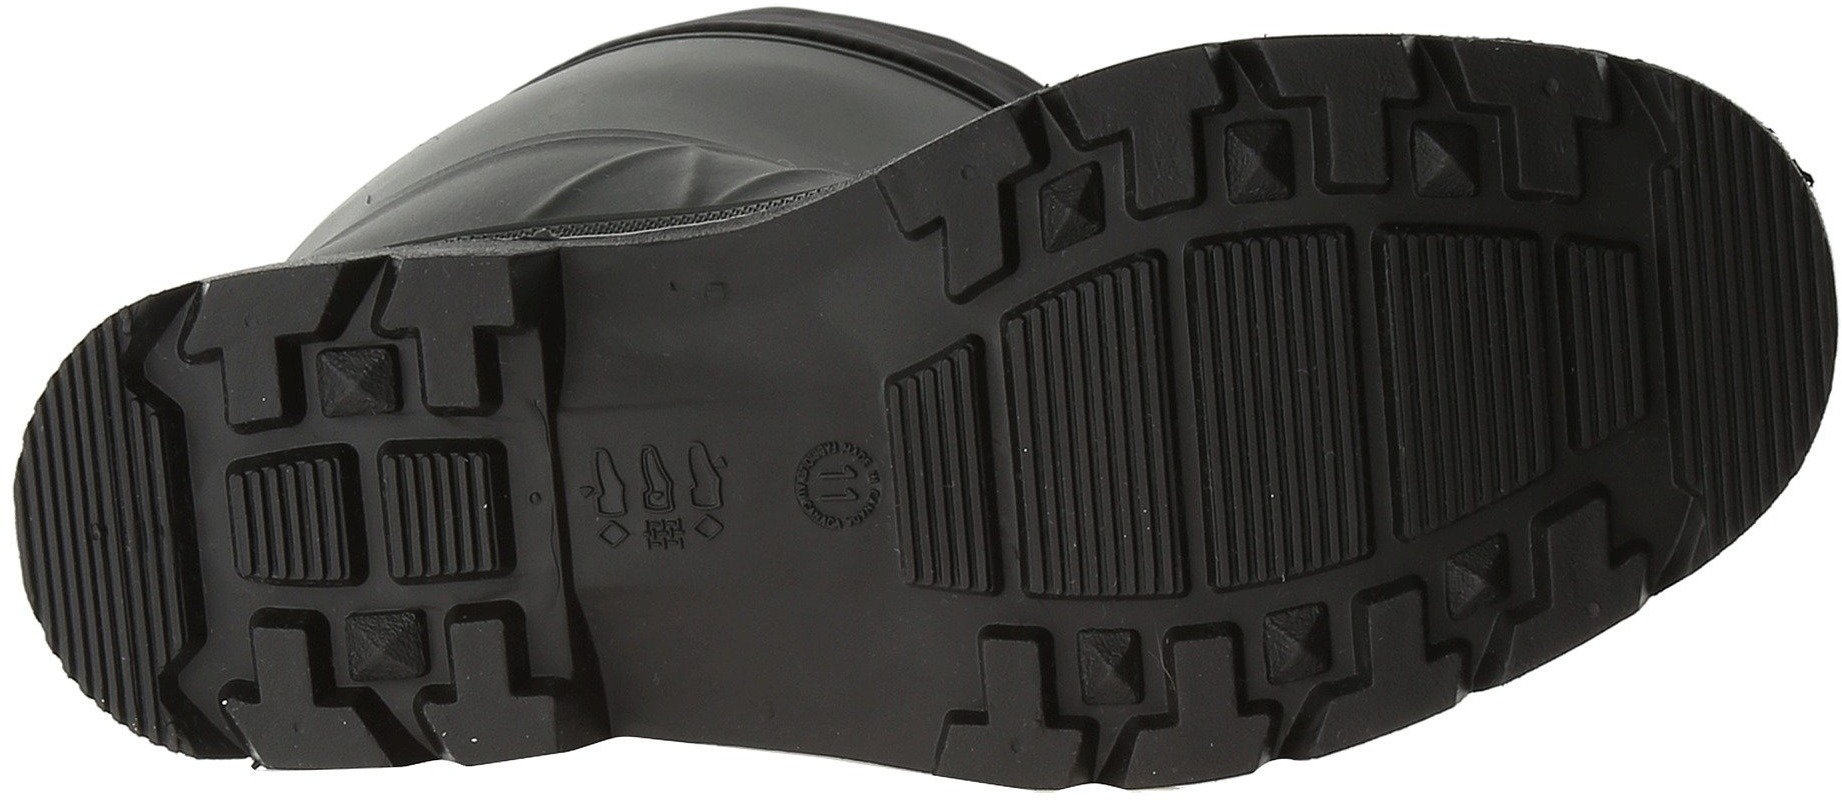other: (1043, 274, 1360, 555), (1398, 240, 1646, 465), (581, 430, 722, 581), (1680, 229, 1820, 373), (35, 460, 164, 599), (236, 460, 355, 583)
quad: (858, 328, 1033, 617), (363, 427, 524, 599)
text: (802, 447, 887, 532)
